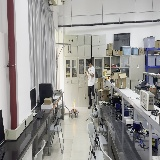fire: (71, 98, 76, 112)
